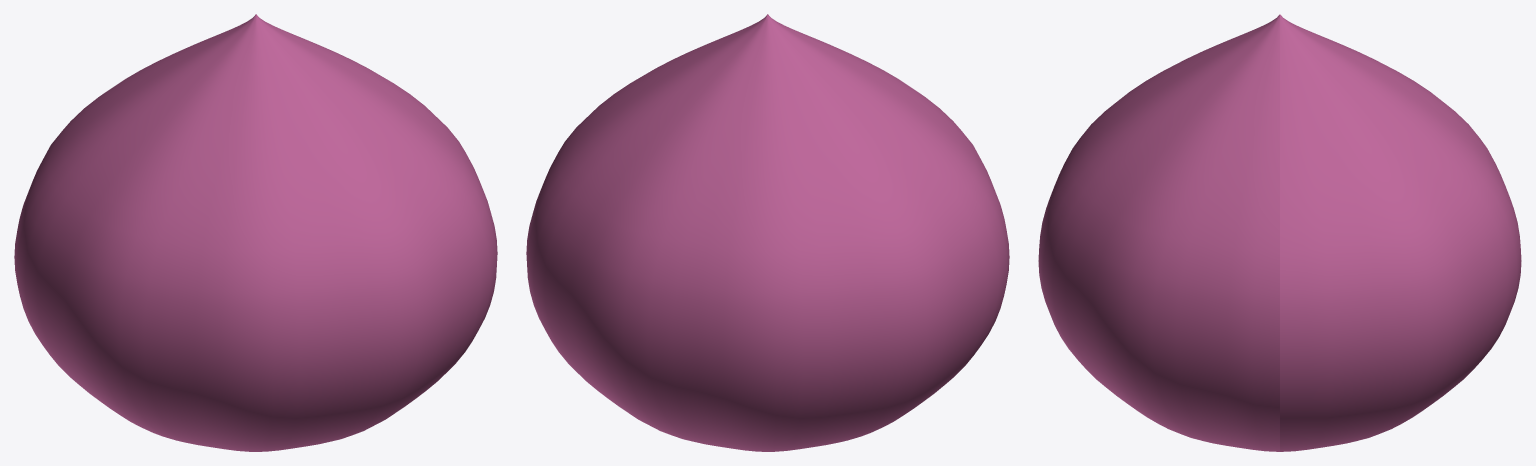
Rendered from cebola-roxa.glb.
The picture shows the model from 3 angles, left to right: view 1: azimuth 30°, elevation 25°; view 2: azimuth 150°, elevation 25°; view 3: azimuth 270°, elevation 25°; orthographic projection.
Visible parts, largest first — view 1: cebola-roxa; view 2: cebola-roxa; view 3: cebola-roxa.
Boxes of the visible parts, x1=… form: cebola-roxa: x1=14, y1=14, x2=497, y2=451; cebola-roxa: x1=526, y1=14, x2=1009, y2=451; cebola-roxa: x1=1038, y1=14, x2=1521, y2=451.
Bounding box in the file's own units: 2 × 1.93 × 2.01.
